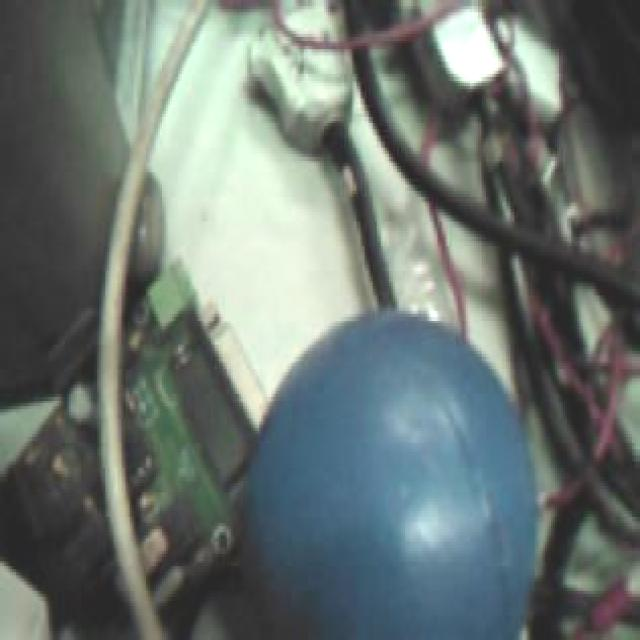BallPurple: (241, 309, 539, 640)
